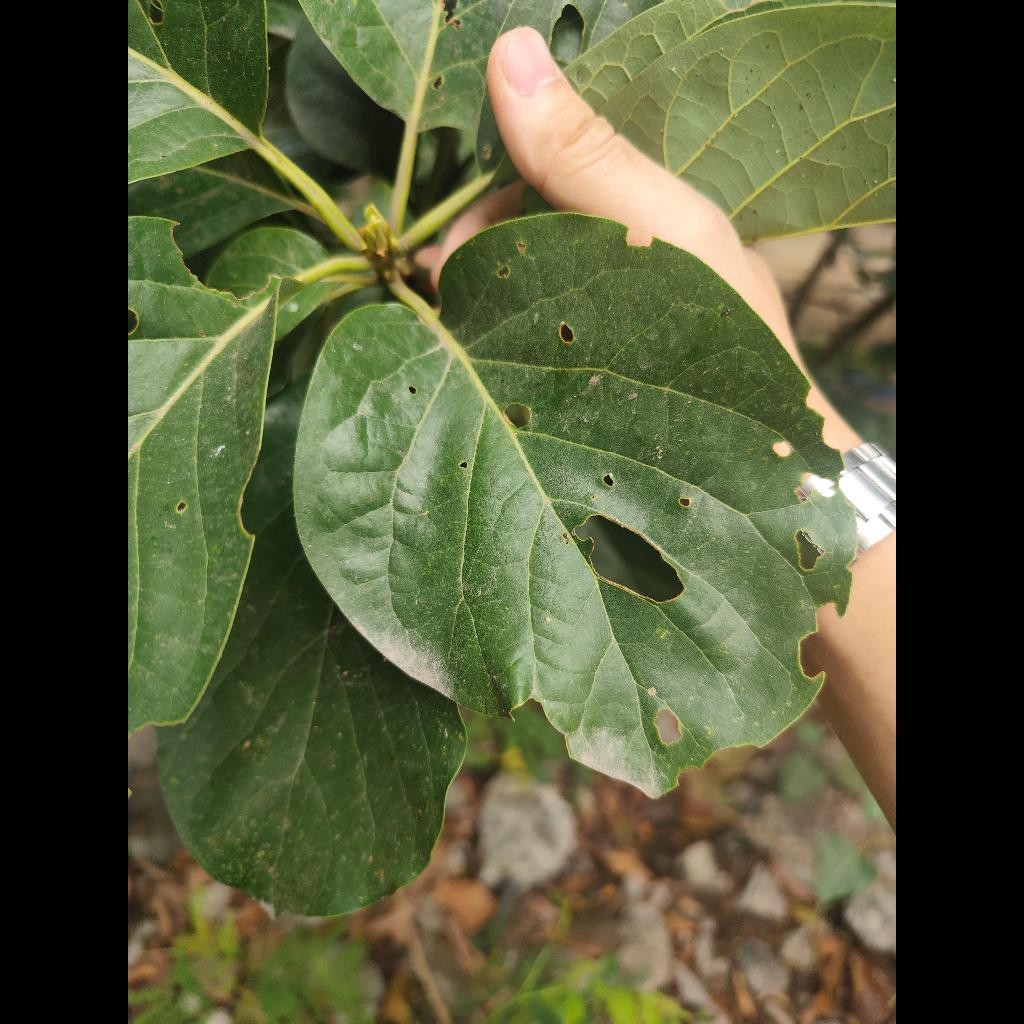plaga: (296, 214, 850, 795)
